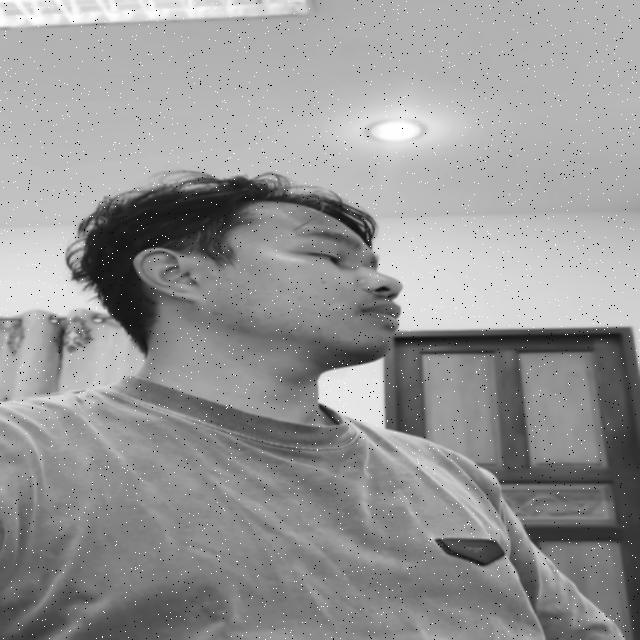ear: (133, 248, 198, 301)
